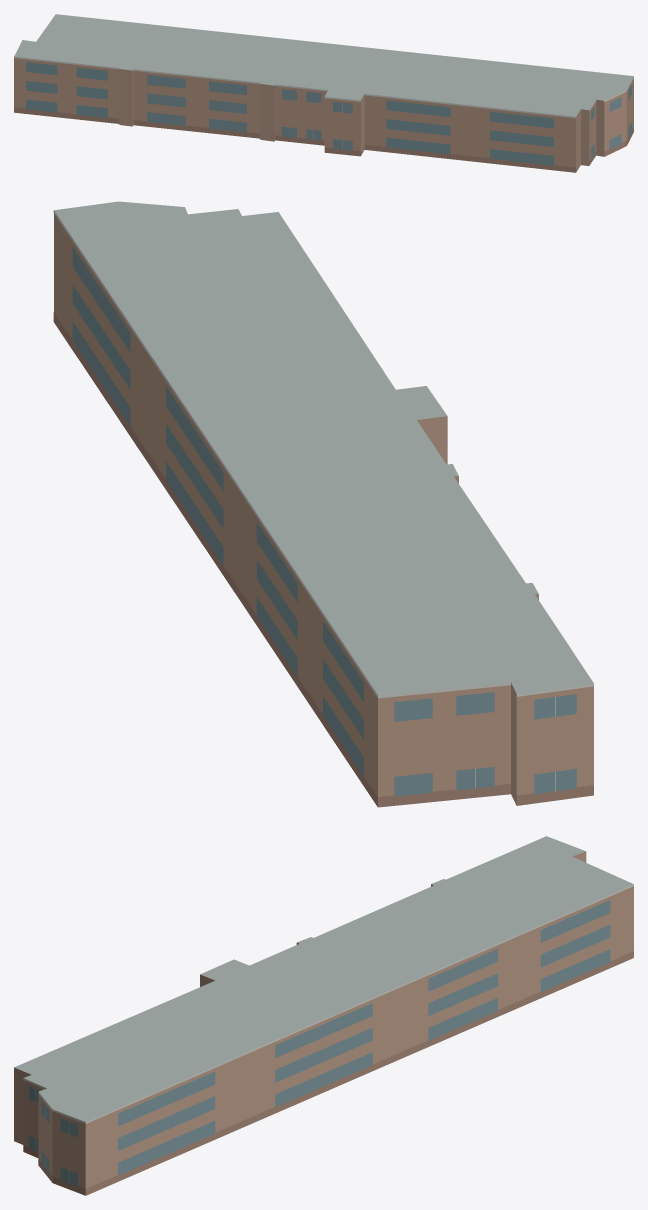
The model's file is survey-upis-32518889.glb.
3 views of the same model, one above another, from view 1: azimuth 30°, elevation 25°; view 2: azimuth 150°, elevation 25°; view 3: azimuth 270°, elevation 25° (orthographic). The views are drawn at different scales.
Visible parts, largest first — view 1: survey-upis-32518889.tmp; view 2: survey-upis-32518889.tmp; view 3: survey-upis-32518889.tmp.
Boxes of the visible parts, left/top/right/bottom form: survey-upis-32518889.tmp: left=14, top=14, right=633, bottom=172; survey-upis-32518889.tmp: left=53, top=201, right=593, bottom=807; survey-upis-32518889.tmp: left=14, top=836, right=633, bottom=1195.
Bounding box in the file's own units: 76.12 × 9.15 × 69.72.
